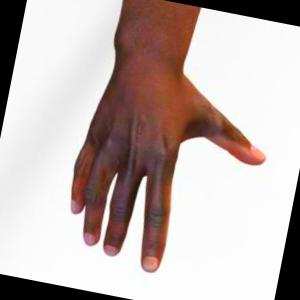paper: (71, 0, 264, 272)
